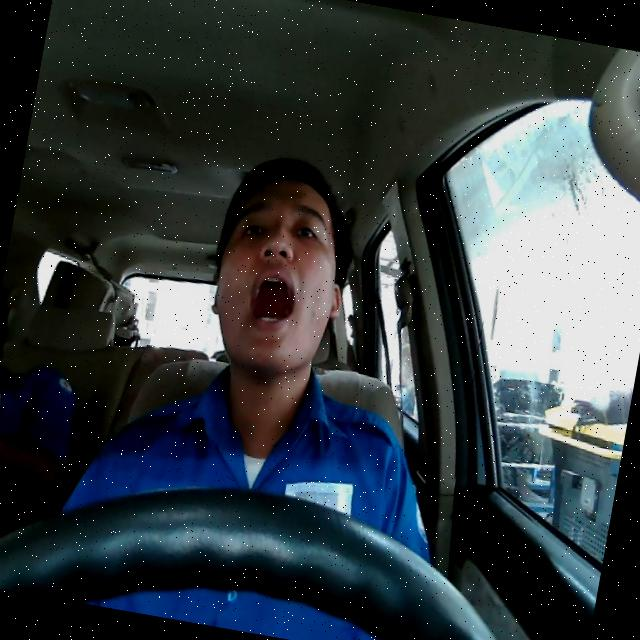yarning: (200, 170, 362, 386)
